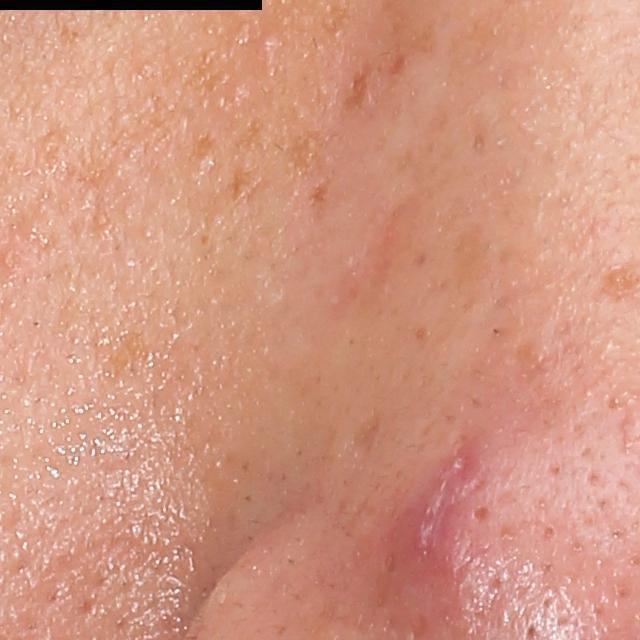atrophic_scar: (332, 195, 445, 318), (415, 440, 479, 562), (71, 126, 141, 231), (343, 408, 385, 469), (473, 505, 493, 522)
comedo: (258, 33, 277, 56), (542, 524, 560, 542)
melasma: (186, 88, 342, 222), (50, 288, 172, 393), (129, 48, 229, 128), (450, 226, 499, 294)
